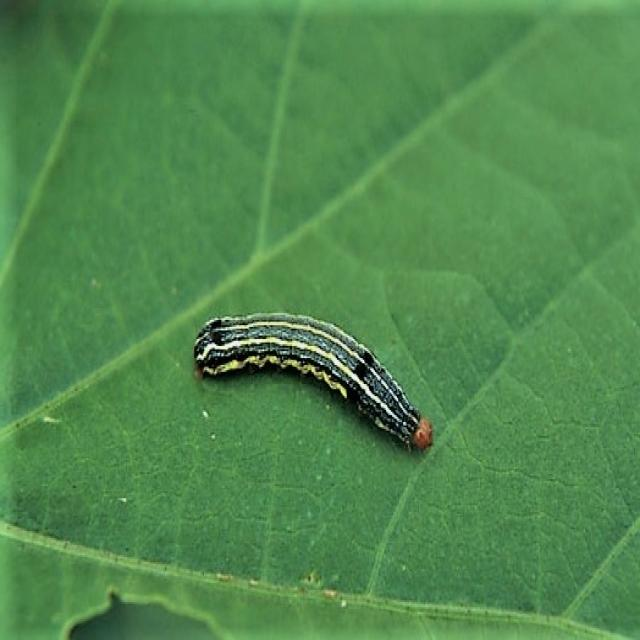armyworm: (192, 310, 432, 453)
